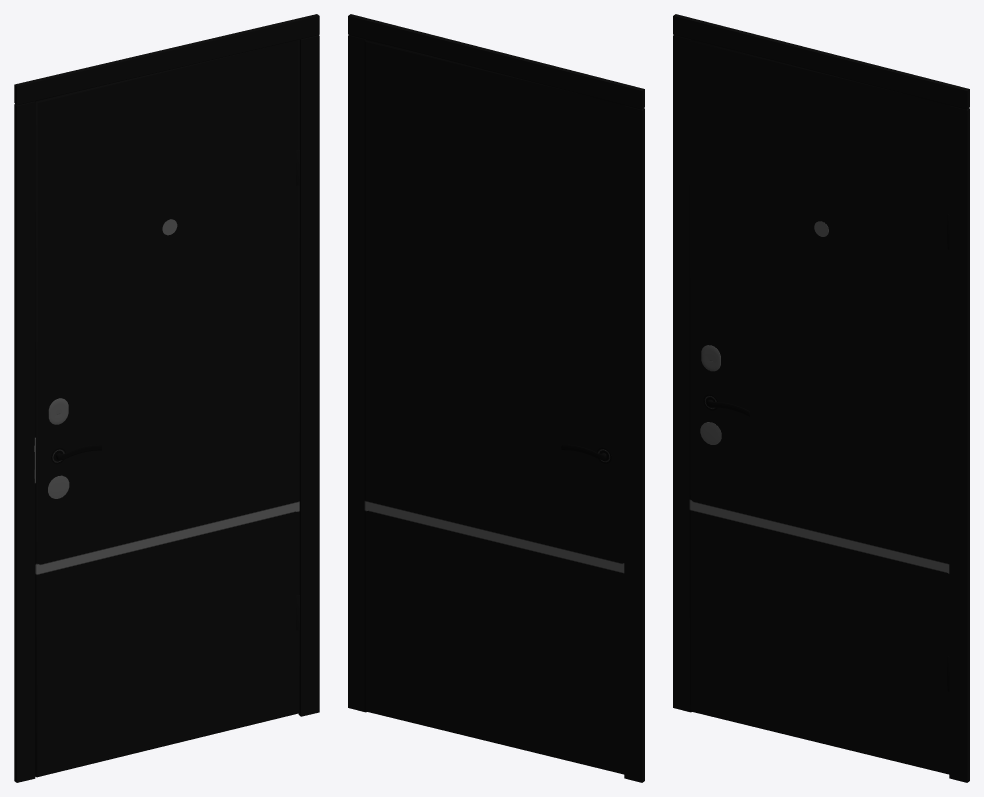
Rendered from WarpDoor2.obj.
3 renders of one model, left to right at view 1: azimuth 30°, elevation 25°; view 2: azimuth 150°, elevation 25°; view 3: azimuth 330°, elevation 25°, orthographic.
Visible parts, largest first — view 1: 01_low, 03_low; view 2: 01_low, 03_low; view 3: 01_low, 03_low.
Part boxes in pixels (left/top/right/bottom): 01_low: left=34, top=39, right=299, bottom=777; 03_low: left=14, top=14, right=319, bottom=782; 01_low: left=364, top=39, right=624, bottom=774; 03_low: left=348, top=14, right=644, bottom=782; 01_low: left=689, top=39, right=949, bottom=774; 03_low: left=673, top=14, right=969, bottom=782.
Bounding box in the file's own units: 3.89 × 8.64 × 0.1716.
1 material, 1 textured.
